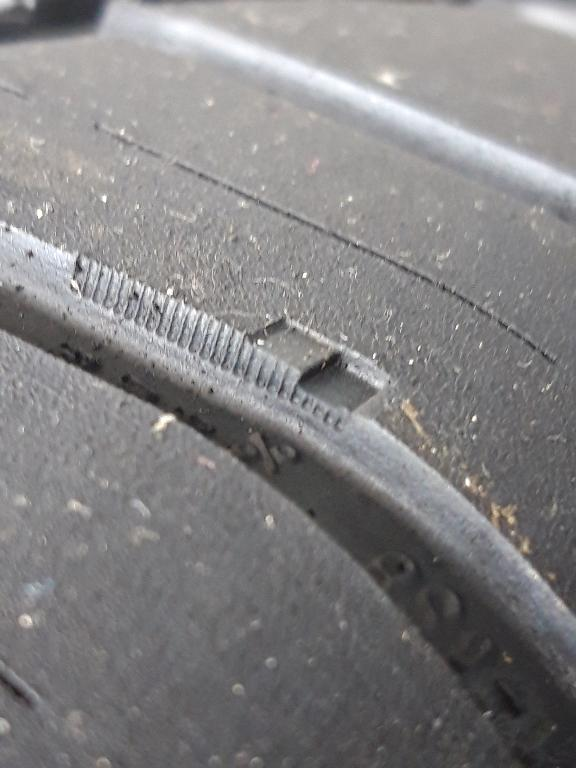temoin:25: (226, 311, 404, 449)
